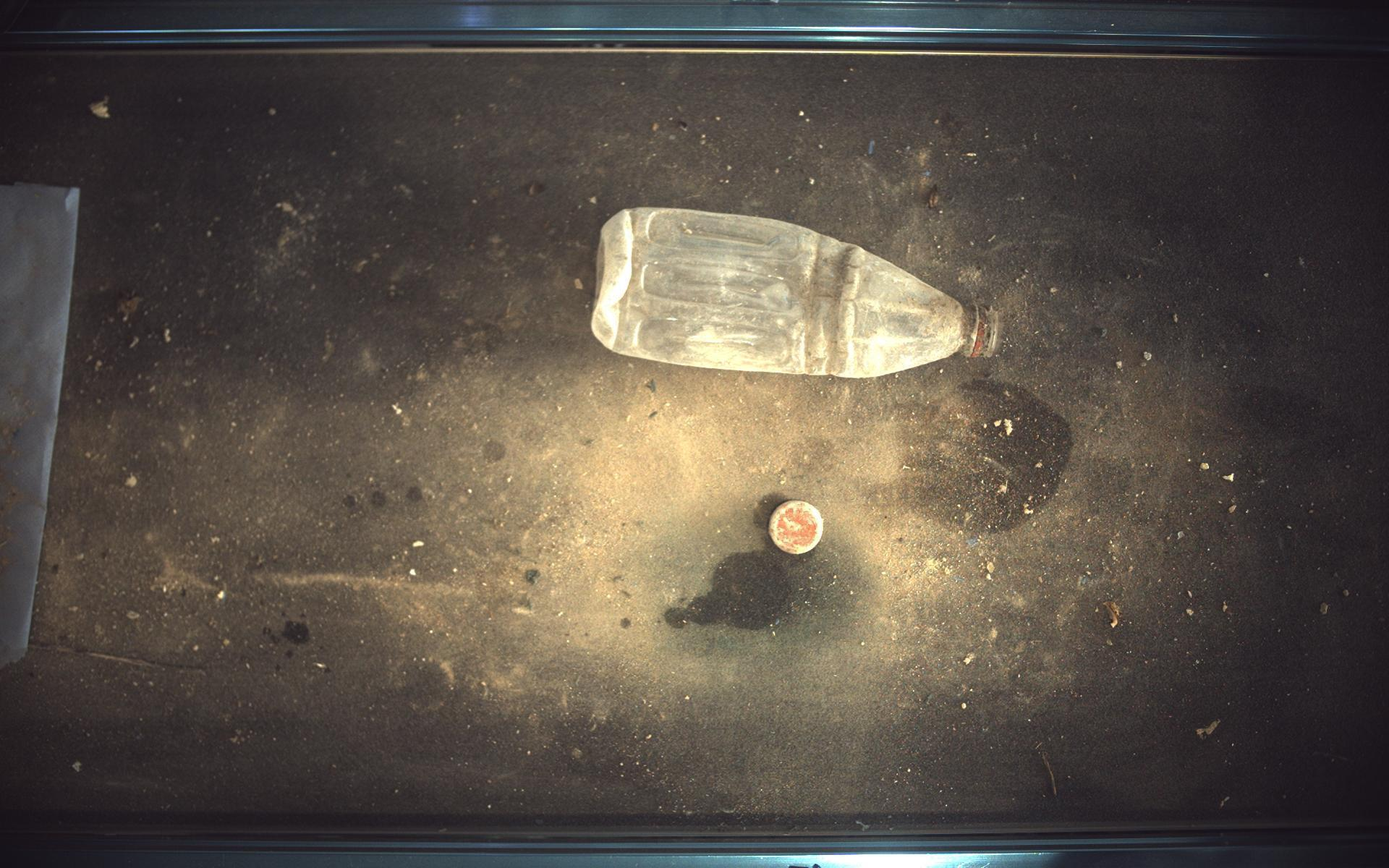general_w: (592, 207, 1003, 378), (770, 501, 825, 555)
